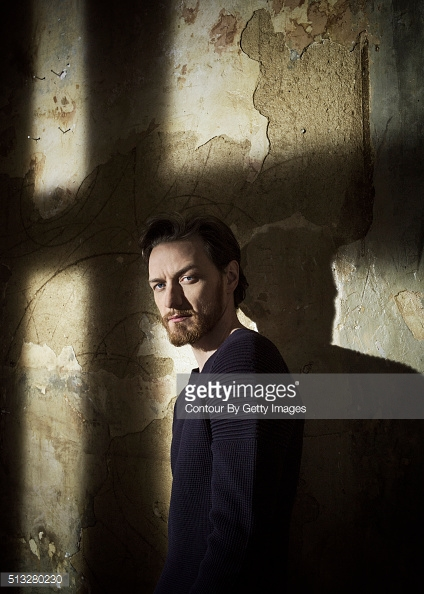em pe: (40, 201, 344, 593)
